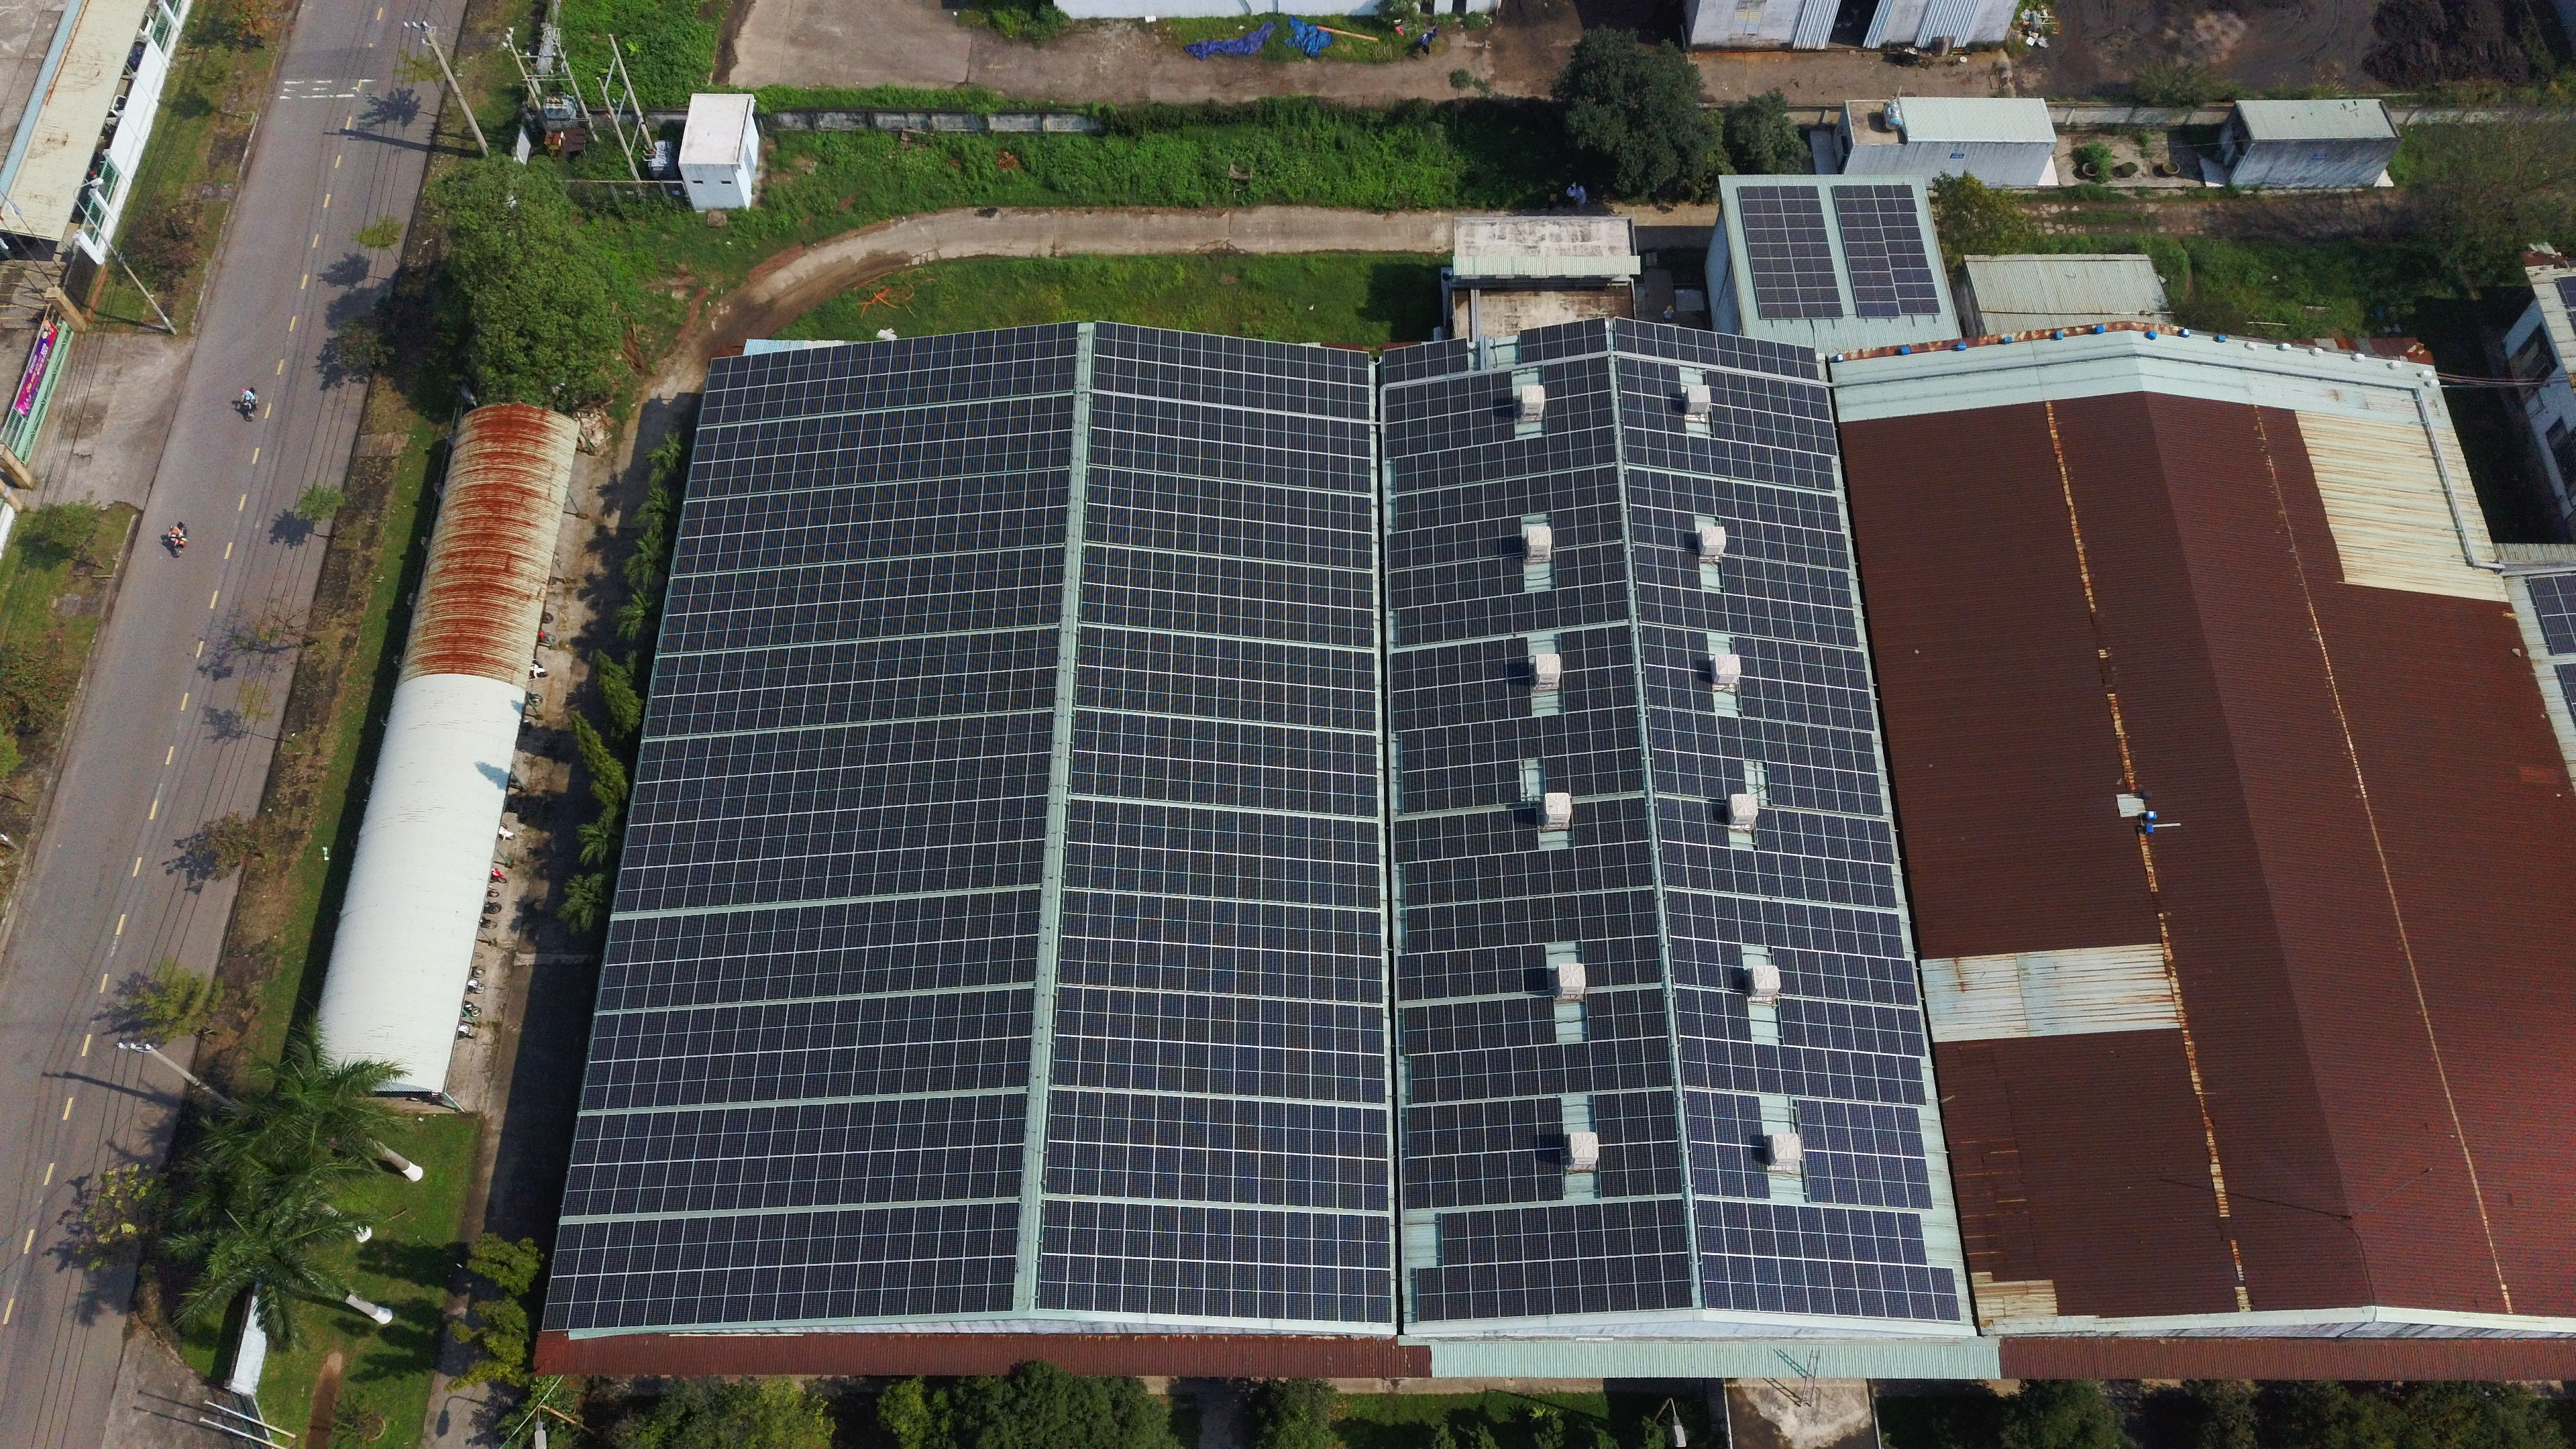solar: (543, 1275, 578, 1331), (567, 1274, 601, 1330), (593, 1272, 627, 1328), (619, 1271, 653, 1327), (644, 1270, 678, 1326), (668, 1269, 702, 1324), (695, 1268, 729, 1324), (722, 1267, 756, 1322), (749, 1266, 784, 1322), (773, 1265, 807, 1320), (800, 1263, 834, 1319), (828, 1262, 862, 1318), (853, 1262, 887, 1318), (879, 1259, 913, 1315), (551, 1223, 586, 1277), (576, 1222, 610, 1276), (601, 1222, 636, 1275), (625, 1220, 660, 1274), (651, 1219, 686, 1273), (676, 1217, 710, 1271), (702, 1216, 737, 1269), (728, 1216, 763, 1269), (751, 1212, 786, 1266), (780, 1211, 815, 1265), (1694, 1199, 1727, 1255), (1721, 1201, 1754, 1256), (1746, 1203, 1779, 1258), (1771, 1203, 1804, 1259), (1796, 1206, 1829, 1262), (1820, 1205, 1853, 1261), (1846, 1206, 1879, 1262), (1871, 1210, 1904, 1265), (1896, 1211, 1929, 1267), (1699, 1254, 1732, 1309), (1727, 1255, 1760, 1311), (1752, 1256, 1784, 1312), (1777, 1257, 1810, 1313), (1804, 1259, 1837, 1315), (1827, 1261, 1860, 1317), (1853, 1262, 1886, 1318), (1877, 1263, 1910, 1319), (1904, 1265, 1937, 1321), (1927, 1265, 1960, 1321), (1633, 1254, 1665, 1310), (1661, 1252, 1693, 1308), (924, 1040, 958, 1092), (951, 1038, 985, 1091), (1479, 1152, 1511, 1207), (1507, 1149, 1539, 1204), (1533, 1147, 1565, 1202), (1596, 1144, 1628, 1199), (1623, 1142, 1656, 1197), (1650, 1140, 1682, 1195), (1853, 1152, 1885, 1207), (1878, 1155, 1910, 1210), (1902, 1156, 1935, 1211), (561, 1164, 596, 1216), (586, 1163, 620, 1215), (610, 1163, 645, 1214), (635, 1162, 669, 1214), (659, 1160, 694, 1212), (684, 1159, 718, 1210), (710, 1157, 745, 1208), (737, 1157, 771, 1208), (761, 1155, 796, 1207), (786, 1155, 820, 1206), (814, 1154, 848, 1205), (839, 1152, 873, 1204), (865, 1151, 899, 1203), (581, 1061, 616, 1111), (604, 1059, 639, 1109), (627, 1058, 662, 1108), (653, 1057, 688, 1107), (677, 1055, 712, 1105), (700, 1054, 735, 1104), (724, 1053, 759, 1103), (752, 1051, 787, 1102), (775, 1050, 810, 1100), (800, 1048, 835, 1098), (826, 1047, 861, 1097), (970, 1095, 1004, 1147), (996, 1092, 1030, 1144), (808, 1211, 840, 1265), (830, 1210, 863, 1264), (857, 1207, 889, 1262), (883, 1207, 915, 1261), (910, 1205, 943, 1260), (938, 1204, 970, 1258), (965, 1202, 997, 1256), (988, 1202, 1020, 1256), (1146, 1260, 1179, 1314), (906, 1259, 938, 1314), (933, 1258, 965, 1313), (958, 1257, 989, 1312), (986, 1256, 1018, 1311), (890, 1148, 922, 1201), (914, 1148, 947, 1201), (941, 1147, 974, 1199), (966, 1145, 999, 1197), (1690, 1142, 1721, 1197), (1716, 1144, 1747, 1199), (1741, 1145, 1772, 1201), (1803, 1150, 1834, 1205), (1829, 1150, 1860, 1206), (1002, 1035, 1034, 1089), (571, 1115, 604, 1165), (595, 1114, 629, 1165), (620, 1113, 653, 1163), (643, 1112, 677, 1162), (669, 1110, 703, 1160), (694, 1109, 727, 1159), (718, 1108, 752, 1158), (743, 1107, 777, 1157), (767, 1106, 801, 1157), (793, 1104, 826, 1155), (818, 1104, 852, 1154), (843, 1102, 877, 1152), (870, 1099, 904, 1150), (895, 1099, 928, 1150), (918, 1097, 952, 1148), (945, 1097, 979, 1147), (1796, 1099, 1829, 1151), (1821, 1101, 1854, 1153), (1845, 1103, 1877, 1155), (1870, 1104, 1902, 1156), (1894, 1106, 1927, 1158), (1440, 1211, 1471, 1265), (1467, 1211, 1498, 1265), (1493, 1209, 1523, 1263), (1521, 1207, 1552, 1261), (1548, 1205, 1579, 1259), (1574, 1204, 1605, 1258), (1602, 1202, 1633, 1256), (1629, 1199, 1660, 1254), (1656, 1199, 1687, 1253), (1415, 1266, 1446, 1320), (1443, 1266, 1474, 1320), (1468, 1263, 1499, 1318), (1497, 1262, 1527, 1316), (1523, 1260, 1554, 1314), (1552, 1258, 1582, 1313), (1579, 1256, 1610, 1311), (1607, 1256, 1638, 1311), (588, 1012, 622, 1062), (611, 1012, 645, 1062), (635, 1010, 668, 1059), (659, 1008, 693, 1058), (685, 1008, 718, 1057), (710, 1006, 743, 1056), (733, 1004, 766, 1053), (757, 1004, 790, 1053), (782, 1001, 816, 1051), (806, 1000, 840, 1049), (833, 999, 866, 1049), (856, 998, 890, 1047), (878, 996, 912, 1046), (905, 994, 938, 1043), (930, 993, 963, 1042), (955, 991, 988, 1041), (980, 989, 1014, 1038), (1647, 1089, 1678, 1142), (977, 1038, 1010, 1089), (1642, 1036, 1673, 1088), (1048, 1088, 1077, 1143), (1075, 1088, 1104, 1143), (1100, 1090, 1130, 1145), (1127, 1091, 1157, 1146), (1153, 1093, 1183, 1148), (1179, 1095, 1209, 1150), (1205, 1097, 1235, 1152), (1233, 1096, 1263, 1151), (1257, 1100, 1287, 1155), (1284, 1101, 1313, 1156), (1311, 1104, 1340, 1159), (1334, 1104, 1364, 1159), (1360, 1106, 1389, 1161), (1046, 1140, 1076, 1195), (1073, 1142, 1102, 1197), (1097, 1142, 1127, 1197), (1124, 1144, 1154, 1199), (1152, 1145, 1181, 1200), (1178, 1147, 1207, 1202), (1204, 1149, 1234, 1204), (1232, 1150, 1261, 1205), (1256, 1151, 1286, 1206), (1283, 1153, 1313, 1208), (1308, 1155, 1338, 1210), (1336, 1157, 1365, 1212), (1360, 1157, 1389, 1212), (1042, 1200, 1071, 1255), (1070, 1200, 1099, 1255), (1097, 1201, 1126, 1256), (1124, 1204, 1153, 1259), (1150, 1203, 1179, 1258), (1177, 1206, 1207, 1261), (1204, 1206, 1234, 1261), (1231, 1209, 1260, 1264), (1256, 1210, 1285, 1265), (1284, 1212, 1313, 1267), (1311, 1212, 1340, 1267), (1336, 1212, 1366, 1267), (1361, 1214, 1391, 1269), (1038, 1254, 1068, 1309), (1065, 1257, 1095, 1312), (1093, 1256, 1123, 1311), (1120, 1256, 1150, 1311), (1175, 1260, 1205, 1316), (1202, 1262, 1232, 1317), (1230, 1262, 1259, 1317), (1256, 1263, 1286, 1318), (1285, 1265, 1314, 1320), (1311, 1267, 1341, 1322), (1336, 1267, 1366, 1322), (1362, 1268, 1392, 1323), (851, 1046, 883, 1096), (875, 1044, 908, 1094), (900, 1044, 932, 1094), (1627, 887, 1659, 937), (1693, 939, 1725, 989), (1078, 1034, 1108, 1087), (1103, 1037, 1132, 1090), (1130, 1038, 1160, 1091), (1155, 1040, 1185, 1093), (1180, 1041, 1210, 1094), (1208, 1043, 1238, 1096), (1232, 1044, 1261, 1097), (1257, 1045, 1287, 1098), (1282, 1047, 1311, 1100), (1307, 1047, 1337, 1100), (1334, 1049, 1364, 1102), (1699, 989, 1729, 1040), (1722, 992, 1752, 1043), (1777, 996, 1807, 1047), (1802, 1000, 1832, 1051), (1825, 1000, 1856, 1051), (1848, 1003, 1878, 1054), (1873, 1006, 1903, 1057), (1895, 1007, 1925, 1058), (1680, 1037, 1710, 1088), (1705, 1039, 1735, 1090), (1729, 1040, 1759, 1091), (1754, 1042, 1784, 1093), (1778, 1044, 1808, 1095), (1802, 1047, 1832, 1098), (1825, 1050, 1856, 1101), (1850, 1051, 1880, 1102), (1874, 1053, 1904, 1104), (1896, 1055, 1927, 1106), (1684, 1091, 1714, 1142), (1709, 1093, 1739, 1144), (1735, 1094, 1765, 1145), (996, 1145, 1025, 1197), (1053, 1034, 1081, 1087), (1456, 1153, 1485, 1207), (1006, 988, 1037, 1037), (1402, 1005, 1432, 1056), (1426, 1003, 1456, 1054), (1452, 1001, 1482, 1052), (1477, 998, 1506, 1049), (1527, 995, 1557, 1046), (1500, 996, 1529, 1046), (1585, 991, 1615, 1042), (1611, 989, 1641, 1040), (1638, 987, 1667, 1038), (1408, 1053, 1438, 1104), (1434, 1051, 1464, 1102), (1460, 1051, 1489, 1102), (1484, 1048, 1513, 1099), (1511, 1046, 1541, 1097), (1538, 1045, 1568, 1096), (1563, 1041, 1593, 1092), (1589, 1040, 1618, 1091), (1617, 1038, 1647, 1089), (1405, 1106, 1435, 1157), (1432, 1104, 1462, 1155), (1457, 1102, 1487, 1153), (1483, 1099, 1513, 1150), (1509, 1099, 1539, 1150), (1536, 1097, 1565, 1148), (1593, 1093, 1623, 1144), (1620, 1091, 1650, 1142), (1402, 1157, 1432, 1208), (1429, 1155, 1458, 1206), (1665, 889, 1695, 938), (1688, 892, 1719, 941), (1713, 895, 1743, 945), (1736, 896, 1766, 946), (1759, 899, 1789, 949), (1783, 901, 1813, 951), (1807, 904, 1837, 954), (1831, 907, 1862, 957), (1670, 936, 1700, 985), (1717, 941, 1747, 991), (1772, 947, 1802, 996), (1794, 949, 1825, 999), (1819, 952, 1849, 1002), (1842, 954, 1872, 1004), (1866, 956, 1896, 1006), (1890, 958, 1920, 1008), (1675, 987, 1705, 1037), (597, 963, 628, 1012), (621, 963, 652, 1011), (645, 961, 676, 1010), (669, 960, 700, 1008), (693, 957, 724, 1005), (718, 957, 749, 1005), (741, 954, 772, 1002), (764, 952, 795, 1000), (788, 951, 818, 999), (812, 949, 843, 998), (837, 948, 867, 996), (861, 945, 892, 994), (886, 943, 917, 991), (911, 942, 942, 990), (935, 940, 966, 988), (962, 938, 993, 986), (985, 936, 1016, 985), (1009, 934, 1040, 983), (1577, 891, 1608, 939), (1601, 890, 1632, 938), (1157, 993, 1186, 1043), (1183, 993, 1212, 1043), (1207, 996, 1237, 1046), (1232, 996, 1262, 1046), (1258, 997, 1287, 1047), (1282, 1000, 1311, 1051), (1307, 1002, 1337, 1052), (1333, 1002, 1362, 1053), (698, 913, 730, 960), (723, 910, 754, 957), (747, 909, 777, 956), (771, 908, 802, 955), (794, 904, 825, 951), (819, 904, 850, 951), (843, 902, 874, 949), (867, 900, 898, 947), (891, 898, 922, 945), (916, 897, 947, 944), (940, 895, 971, 942), (965, 892, 996, 939), (989, 891, 1020, 938), (1580, 939, 1610, 988), (1608, 936, 1638, 985), (1633, 936, 1663, 985), (1548, 847, 1580, 893), (1572, 846, 1604, 892), (1600, 845, 1631, 890), (1625, 843, 1657, 889), (1853, 910, 1883, 958), (1876, 912, 1906, 960), (1656, 796, 1686, 845), (1678, 798, 1708, 847), (1703, 800, 1732, 849), (1754, 806, 1783, 854), (1776, 808, 1805, 857), (1800, 812, 1829, 860), (1822, 813, 1851, 861), (1660, 841, 1690, 889), (1684, 843, 1713, 891), (1707, 846, 1737, 894), (1731, 848, 1761, 896), (1755, 851, 1784, 899), (1777, 853, 1807, 902), (1801, 855, 1830, 904), (1823, 857, 1852, 905), (1847, 859, 1876, 908), (1869, 862, 1898, 910), (1357, 1004, 1385, 1055), (1843, 817, 1873, 863), (1866, 820, 1895, 866), (623, 824, 653, 869), (645, 822, 675, 867), (666, 822, 696, 867), (692, 820, 722, 865), (712, 818, 743, 863), (737, 816, 767, 861), (759, 814, 789, 859), (783, 813, 813, 858), (806, 811, 837, 856), (830, 810, 860, 855), (853, 808, 883, 853), (878, 805, 908, 850), (902, 804, 932, 849), (924, 802, 954, 847), (950, 802, 980, 847), (972, 798, 1002, 843), (997, 798, 1027, 843), (1021, 796, 1051, 841), (615, 867, 645, 912), (637, 866, 667, 911), (661, 865, 691, 910), (684, 863, 714, 908), (706, 861, 737, 906), (729, 860, 759, 905), (753, 857, 783, 902), (776, 857, 806, 902), (800, 855, 830, 900), (825, 853, 855, 898), (849, 852, 879, 897), (870, 849, 900, 894), (897, 848, 927, 893), (919, 847, 949, 892), (943, 845, 973, 890), (967, 843, 998, 888), (992, 841, 1022, 885), (606, 920, 636, 965), (629, 918, 659, 963), (653, 916, 683, 961), (676, 915, 706, 960), (1360, 1053, 1387, 1105), (1061, 889, 1089, 938), (1087, 890, 1114, 939), (1112, 892, 1140, 941), (1137, 894, 1165, 943), (1162, 895, 1189, 944), (1185, 896, 1212, 945), (1211, 900, 1238, 949), (1235, 900, 1263, 949), (1260, 902, 1288, 951), (1284, 902, 1311, 951), (1307, 904, 1334, 953), (1334, 907, 1361, 956), (1355, 909, 1383, 958), (1059, 935, 1086, 984), (1083, 937, 1111, 986), (1110, 938, 1138, 987), (1136, 942, 1163, 991), (1160, 941, 1187, 990), (1183, 944, 1210, 993), (1211, 946, 1238, 995), (1234, 948, 1261, 997), (1258, 948, 1286, 997), (1285, 951, 1312, 1000), (1310, 952, 1338, 1001), (1333, 953, 1360, 1002), (1358, 955, 1386, 1004), (1056, 987, 1083, 1036), (1080, 988, 1108, 1037), (1107, 989, 1134, 1038), (1132, 991, 1160, 1040), (789, 770, 819, 814), (811, 767, 841, 811), (836, 766, 866, 810), (859, 765, 890, 809), (882, 763, 912, 807), (905, 761, 935, 805), (930, 758, 960, 802), (955, 758, 985, 802), (1429, 904, 1456, 952), (1452, 903, 1480, 951), (1479, 900, 1506, 948), (1503, 897, 1530, 945), (1528, 895, 1556, 943), (1552, 892, 1580, 941), (1510, 808, 1540, 853), (1572, 803, 1601, 848), (1596, 800, 1625, 845), (1621, 797, 1650, 842), (651, 780, 682, 823), (675, 779, 706, 822), (697, 776, 728, 819), (719, 775, 750, 818), (743, 773, 773, 816), (765, 773, 796, 816), (1015, 889, 1043, 936), (1524, 850, 1552, 897), (1500, 853, 1529, 898), (1018, 840, 1046, 885), (977, 756, 1006, 800), (1001, 754, 1030, 798), (1094, 710, 1123, 755), (1118, 712, 1147, 756), (1143, 714, 1172, 759), (1166, 715, 1195, 759), (1189, 716, 1218, 761), (1214, 720, 1243, 764), (1236, 723, 1265, 767), (1260, 726, 1289, 770), (1282, 728, 1311, 772), (1305, 728, 1334, 772), (1328, 730, 1357, 774), (651, 655, 682, 698), (672, 654, 702, 696), (695, 652, 725, 694), (717, 650, 747, 692), (741, 649, 771, 691), (761, 647, 792, 689), (782, 645, 812, 687), (806, 643, 837, 686), (830, 641, 860, 684), (853, 640, 883, 682), (873, 639, 904, 681), (896, 637, 926, 680), (918, 636, 948, 678), (942, 633, 972, 676), (965, 632, 996, 674), (643, 696, 674, 738), (668, 695, 698, 737), (690, 693, 720, 735), (712, 691, 742, 733), (733, 690, 763, 733), (755, 688, 786, 730), (778, 686, 808, 728), (801, 684, 831, 726), (824, 683, 854, 725), (847, 682, 877, 724), (869, 678, 899, 720), (893, 678, 923, 720), (916, 676, 946, 718), (939, 674, 969, 716), (637, 740, 667, 782), (658, 739, 688, 781), (682, 738, 712, 780), (704, 736, 735, 778), (726, 733, 756, 775), (750, 731, 780, 773), (771, 731, 801, 773), (795, 730, 825, 772), (818, 727, 849, 769), (841, 725, 871, 767), (864, 723, 894, 765), (886, 722, 916, 764), (910, 720, 940, 762), (934, 718, 964, 761), (957, 716, 987, 758), (979, 714, 1010, 757), (1003, 713, 1033, 755), (1024, 711, 1055, 753), (629, 783, 659, 825), (1405, 907, 1432, 953), (1397, 955, 1424, 1001), (1421, 952, 1449, 998), (1446, 950, 1473, 996), (1470, 949, 1497, 995), (1497, 947, 1524, 993), (1522, 944, 1550, 990), (1024, 753, 1053, 797), (680, 612, 710, 654), (703, 611, 733, 653), (722, 609, 753, 651), (747, 607, 777, 649), (767, 605, 798, 647), (790, 603, 820, 645), (812, 602, 843, 643), (835, 600, 865, 641), (858, 598, 888, 639), (879, 596, 910, 638), (963, 672, 991, 716), (984, 671, 1012, 714), (1010, 668, 1038, 712), (1031, 666, 1059, 710), (1543, 755, 1571, 799), (1567, 752, 1595, 796), (1591, 750, 1619, 794), (1617, 749, 1645, 792), (988, 631, 1016, 674), (1010, 629, 1038, 672), (1032, 627, 1061, 669), (1069, 750, 1096, 795), (1093, 752, 1120, 797), (1117, 754, 1144, 799), (1142, 756, 1169, 801), (1167, 759, 1194, 804), (1190, 759, 1217, 804), (1214, 761, 1240, 806), (1236, 763, 1263, 808), (1261, 766, 1288, 811), (1283, 768, 1310, 813), (1308, 769, 1335, 814), (1330, 771, 1356, 816), (1069, 800, 1095, 845), (1092, 800, 1119, 845), (1116, 803, 1142, 848), (1140, 804, 1167, 849), (1163, 806, 1190, 851), (1189, 808, 1216, 853), (1212, 810, 1238, 855), (1236, 812, 1263, 857), (1260, 812, 1287, 857), (1283, 814, 1310, 859), (1307, 817, 1334, 862), (1332, 818, 1358, 863), (1065, 843, 1091, 888), (1089, 844, 1116, 889), (1113, 847, 1140, 892), (1138, 849, 1165, 894), (1163, 849, 1190, 894), (1187, 851, 1214, 896), (1212, 853, 1238, 898), (1236, 855, 1263, 900), (1261, 857, 1288, 902), (1283, 859, 1310, 904), (1307, 861, 1334, 906), (1331, 861, 1358, 906), (1354, 865, 1381, 910), (1399, 729, 1427, 772), (1422, 727, 1450, 771), (1446, 723, 1474, 767), (1471, 720, 1499, 764), (1495, 718, 1523, 762), (1517, 717, 1544, 761), (1540, 712, 1568, 755), (1565, 710, 1593, 754), (1590, 708, 1617, 752), (1615, 706, 1642, 749), (1401, 769, 1429, 813), (1393, 818, 1421, 862), (1416, 816, 1444, 860), (1441, 814, 1468, 858), (1465, 812, 1493, 856), (1488, 811, 1515, 855), (1404, 863, 1432, 906), (1429, 860, 1456, 904), (1452, 858, 1479, 902), (1475, 857, 1503, 900), (1647, 707, 1674, 751), (1670, 710, 1698, 753), (1693, 712, 1720, 755), (1716, 715, 1743, 759), (1739, 718, 1767, 761), (1761, 720, 1788, 764), (1783, 722, 1811, 765), (1806, 725, 1833, 769), (1828, 728, 1856, 771), (1851, 730, 1878, 773), (1652, 750, 1680, 794), (1674, 753, 1701, 796), (1699, 755, 1726, 799), (1721, 758, 1749, 802), (1767, 762, 1794, 806), (1790, 765, 1818, 808), (1811, 767, 1839, 810), (1834, 769, 1862, 813), (1857, 772, 1884, 816), (1122, 630, 1151, 671), (1147, 631, 1176, 672), (969, 589, 997, 631), (992, 588, 1020, 629), (1015, 586, 1043, 628), (1075, 665, 1102, 709), (1098, 666, 1125, 710), (1122, 667, 1148, 711), (1145, 669, 1172, 712), (1169, 672, 1195, 716), (1191, 674, 1218, 717), (1214, 677, 1241, 720), (1237, 678, 1264, 721), (1263, 681, 1289, 724), (1283, 682, 1310, 726), (1305, 684, 1332, 728), (1328, 686, 1355, 730), (1351, 689, 1378, 733), (1074, 708, 1101, 752), (1609, 665, 1637, 708), (903, 594, 931, 635), (925, 593, 953, 634), (947, 591, 975, 632), (1355, 820, 1381, 865), (1353, 733, 1379, 776), (862, 559, 890, 600), (885, 557, 912, 598), (907, 556, 934, 597), (928, 554, 955, 595), (949, 551, 977, 592), (973, 549, 1000, 590), (996, 548, 1023, 589), (1016, 546, 1044, 587), (1170, 634, 1197, 675), (1193, 637, 1220, 678), (1217, 637, 1244, 678), (1240, 641, 1268, 682), (1260, 644, 1288, 685), (1285, 644, 1312, 685), (1307, 647, 1334, 688), (1328, 649, 1356, 690), (1350, 651, 1377, 692), (1831, 607, 1859, 648), (659, 614, 688, 653), (1426, 768, 1452, 812), (1450, 764, 1475, 808), (1474, 761, 1499, 805), (1495, 760, 1521, 804), (1573, 467, 1599, 509), (1595, 462, 1621, 504), (1088, 426, 1114, 468), (1110, 428, 1136, 470), (1133, 431, 1159, 473), (1086, 467, 1112, 508), (1354, 774, 1379, 818), (1419, 604, 1446, 644), (1441, 602, 1468, 642), (1465, 599, 1492, 639), (1487, 594, 1514, 635), (1510, 593, 1537, 633), (1534, 590, 1561, 631), (1557, 587, 1584, 627), (1581, 584, 1608, 625), (1603, 581, 1630, 621), (1551, 508, 1576, 550), (1573, 504, 1599, 546), (1597, 501, 1623, 543), (1389, 570, 1414, 612), (1397, 606, 1423, 648), (1390, 650, 1415, 692), (1412, 647, 1438, 689), (1434, 645, 1460, 687), (1458, 641, 1484, 683), (1482, 637, 1507, 680), (1503, 635, 1529, 678), (1561, 630, 1587, 672), (1584, 627, 1609, 669), (1608, 623, 1633, 665), (1391, 688, 1416, 731), (1415, 688, 1440, 730), (1438, 683, 1463, 725), (1460, 681, 1486, 723), (1485, 679, 1510, 721), (1508, 676, 1534, 718), (1564, 669, 1590, 712), (1587, 667, 1612, 710), (1155, 434, 1181, 475), (1630, 504, 1656, 546), (1652, 506, 1677, 548), (1673, 510, 1699, 551), (1720, 515, 1746, 557), (1741, 519, 1766, 560), (1762, 522, 1788, 563), (1783, 525, 1809, 566), (1803, 528, 1829, 570), (1824, 530, 1849, 572), (1633, 543, 1659, 584), (1657, 546, 1682, 588), (1677, 550, 1703, 592), (1721, 555, 1747, 596), (1743, 557, 1768, 599), (1764, 559, 1789, 601), (1785, 563, 1811, 604), (1806, 565, 1831, 606), (1827, 568, 1853, 609), (1638, 581, 1663, 623), (1659, 585, 1684, 627), (1682, 588, 1707, 629), (1703, 590, 1728, 632), (1725, 593, 1750, 635), (1748, 596, 1773, 638), (1768, 600, 1794, 642), (1791, 600, 1817, 642), (1812, 604, 1837, 646), (1642, 625, 1667, 666), (1664, 627, 1689, 669), (1685, 630, 1711, 672), (1735, 637, 1760, 679), (1756, 639, 1781, 680), (1778, 641, 1803, 682), (1800, 644, 1825, 686), (1821, 646, 1847, 688), (1843, 649, 1869, 690), (1644, 665, 1669, 706), (1666, 668, 1692, 710), (1689, 671, 1715, 712), (1737, 676, 1763, 718), (1762, 679, 1787, 720), (1782, 681, 1808, 722), (1805, 685, 1831, 727), (1827, 687, 1852, 729), (1849, 688, 1874, 730), (1021, 471, 1049, 508), (673, 537, 700, 576), (696, 535, 722, 574), (716, 533, 743, 572), (738, 531, 765, 570), (758, 529, 785, 568), (778, 526, 805, 565), (801, 525, 828, 564), (823, 521, 850, 560), (845, 521, 872, 559), (866, 521, 893, 559), (890, 519, 916, 558), (909, 517, 936, 555), (933, 515, 960, 553), (957, 513, 983, 552), (977, 512, 1004, 551), (1000, 510, 1026, 549), (1021, 506, 1048, 545), (1042, 506, 1069, 545), (666, 576, 693, 614), (689, 574, 716, 613), (710, 572, 737, 611), (731, 572, 758, 610), (754, 569, 781, 608), (775, 568, 802, 606), (798, 566, 825, 605), (817, 564, 844, 603), (839, 562, 866, 601), (1411, 566, 1436, 608), (1432, 561, 1457, 603), (1456, 559, 1481, 600), (1477, 556, 1502, 598), (1501, 555, 1526, 596), (1556, 546, 1580, 588), (1579, 545, 1604, 586), (1601, 542, 1626, 584), (1177, 437, 1202, 477), (1197, 439, 1223, 479), (1220, 441, 1246, 482), (919, 441, 945, 480), (939, 439, 965, 478), (963, 437, 989, 476), (983, 435, 1010, 474), (1006, 431, 1032, 470), (1026, 431, 1052, 470), (1046, 430, 1073, 469), (1040, 545, 1065, 586), (1085, 504, 1111, 543), (1107, 506, 1132, 546), (1130, 507, 1155, 547), (1151, 511, 1177, 550), (1173, 512, 1199, 551), (1195, 516, 1221, 555), (1217, 517, 1242, 557), (1240, 520, 1266, 559), (1263, 521, 1288, 561), (1285, 524, 1310, 563), (1306, 527, 1332, 567), (1328, 528, 1353, 568), (1350, 531, 1375, 570), (1081, 544, 1107, 584), (1105, 546, 1130, 586), (1127, 549, 1152, 589), (1152, 551, 1177, 590), (1171, 553, 1197, 592), (1196, 555, 1222, 595), (1219, 558, 1244, 598), (1240, 560, 1266, 600), (1264, 563, 1289, 602), (1283, 565, 1308, 604), (1306, 565, 1332, 604), (1328, 568, 1354, 608), (1350, 571, 1375, 610), (1081, 584, 1106, 623), (1104, 584, 1130, 624), (1147, 590, 1173, 630), (1124, 586, 1149, 626), (1171, 592, 1197, 632), (1193, 593, 1219, 633), (1216, 596, 1242, 635), (1239, 598, 1265, 638), (1263, 600, 1289, 640), (1284, 604, 1309, 643), (1307, 605, 1333, 645), (1330, 607, 1355, 647), (1350, 608, 1375, 647), (1078, 627, 1104, 666), (1102, 628, 1127, 667), (1039, 584, 1063, 625), (1460, 444, 1485, 484), (1481, 441, 1505, 482), (1503, 439, 1528, 480), (1524, 436, 1549, 476), (1548, 433, 1573, 473), (1570, 429, 1595, 469), (1592, 426, 1617, 466), (1285, 449, 1310, 488), (1306, 451, 1332, 490), (1328, 453, 1353, 492), (1347, 455, 1373, 494), (1766, 378, 1791, 417), (1787, 382, 1813, 421), (1806, 384, 1831, 423), (706, 356, 733, 392), (726, 355, 753, 392), (746, 352, 773, 389), (767, 350, 794, 386), (786, 347, 813, 384), (806, 346, 833, 383), (828, 343, 855, 380), (1241, 444, 1266, 484), (1263, 447, 1288, 486), (1108, 470, 1133, 509), (1131, 470, 1156, 510), (1152, 473, 1177, 513), (1175, 475, 1200, 515), (1198, 478, 1223, 517), (1218, 480, 1242, 520), (1241, 484, 1266, 523), (1263, 486, 1287, 525), (1285, 487, 1309, 527), (1306, 490, 1331, 529), (1328, 492, 1353, 531), (1348, 493, 1373, 533), (1590, 389, 1615, 429), (1094, 319, 1118, 359), (700, 390, 727, 427), (720, 387, 746, 424), (741, 386, 767, 423), (760, 383, 786, 420), (780, 382, 806, 419), (802, 380, 828, 417), (822, 378, 849, 415), (842, 374, 868, 411), (863, 373, 889, 410), (883, 372, 910, 409), (905, 369, 931, 406), (925, 367, 951, 404), (947, 366, 973, 402), (969, 364, 995, 400), (988, 361, 1014, 398), (1010, 360, 1036, 396), (1030, 358, 1057, 395), (1051, 356, 1077, 392), (693, 426, 719, 463), (712, 426, 739, 463), (733, 422, 759, 459), (755, 420, 782, 457), (775, 419, 802, 455), (796, 417, 822, 454), (816, 415, 843, 452), (839, 414, 865, 451), (879, 411, 906, 447), (856, 411, 882, 448), (901, 408, 927, 445), (923, 407, 949, 444), (943, 405, 969, 441), (964, 402, 990, 439), (987, 400, 1014, 437), (1006, 399, 1032, 436), (1028, 397, 1055, 434), (1051, 396, 1077, 433), (688, 462, 714, 499), (708, 461, 734, 498), (728, 458, 754, 495), (748, 457, 774, 494), (770, 454, 796, 491), (790, 453, 816, 490), (812, 450, 838, 487), (833, 449, 859, 486), (855, 447, 881, 484), (875, 444, 902, 481), (895, 441, 921, 478), (681, 501, 707, 538), (700, 499, 727, 536), (722, 498, 748, 535), (743, 495, 769, 532), (765, 493, 791, 530), (786, 491, 812, 528), (808, 490, 834, 527), (828, 488, 854, 525), (849, 486, 875, 523), (872, 483, 898, 520), (892, 482, 918, 519), (914, 481, 940, 518), (936, 478, 963, 515), (959, 476, 985, 513), (980, 475, 1006, 512), (1001, 475, 1027, 512), (847, 341, 873, 379), (868, 339, 894, 376), (889, 337, 914, 374), (909, 334, 934, 372), (930, 333, 955, 370), (950, 332, 975, 370), (969, 328, 995, 366), (991, 326, 1016, 364), (1013, 323, 1038, 361), (1032, 322, 1058, 360), (1054, 321, 1079, 358), (1813, 419, 1839, 456), (1709, 404, 1735, 440), (1730, 407, 1756, 443), (1751, 411, 1777, 447), (1773, 413, 1799, 449), (1792, 417, 1818, 453), (1328, 419, 1352, 458), (1348, 420, 1373, 459), (1468, 372, 1493, 411), (1490, 370, 1514, 409), (1543, 362, 1567, 400), (1564, 358, 1589, 397), (1587, 355, 1611, 394), (1462, 482, 1485, 523), (1477, 519, 1499, 559), (1091, 355, 1116, 392), (1114, 358, 1139, 395), (1136, 360, 1161, 397), (1157, 363, 1182, 400), (1179, 366, 1203, 402), (1201, 368, 1226, 405), (1220, 372, 1245, 409), (1241, 373, 1266, 410), (1263, 375, 1288, 412), (1285, 378, 1310, 415), (1306, 379, 1331, 416), (1326, 381, 1351, 418), (1091, 392, 1116, 429), (1114, 394, 1138, 431), (1133, 397, 1158, 434), (1156, 399, 1181, 436), (1177, 402, 1202, 439), (1199, 404, 1224, 441), (1220, 407, 1245, 444), (1242, 408, 1267, 445), (1263, 412, 1287, 449), (1285, 414, 1310, 451), (1305, 416, 1330, 453), (1046, 470, 1071, 507), (1540, 323, 1564, 360), (1561, 319, 1585, 357), (1584, 317, 1608, 355), (1614, 316, 1638, 354), (1633, 320, 1658, 358), (1655, 322, 1679, 360), (1676, 325, 1700, 363), (1695, 329, 1719, 366), (1618, 357, 1642, 394), (1640, 359, 1664, 396), (1659, 362, 1683, 399), (1706, 368, 1730, 406), (1727, 371, 1752, 409), (1747, 374, 1771, 412), (1620, 392, 1644, 429), (1643, 394, 1667, 431), (1664, 398, 1688, 435), (1624, 428, 1648, 466), (1646, 430, 1670, 468), (1666, 433, 1690, 471), (1687, 436, 1711, 474), (1709, 439, 1733, 476), (1729, 441, 1754, 479), (1750, 445, 1774, 482), (1770, 448, 1794, 486), (1792, 451, 1816, 489), (1812, 453, 1836, 490), (1627, 469, 1652, 506), (1649, 472, 1673, 509), (1672, 474, 1696, 511), (1692, 476, 1716, 514), (1713, 479, 1737, 517), (1735, 484, 1759, 521), (1754, 486, 1778, 523), (1776, 488, 1800, 526), (1797, 492, 1821, 529), (1817, 494, 1841, 532), (1449, 410, 1472, 449), (1471, 407, 1494, 446), (1493, 405, 1515, 445), (1547, 396, 1570, 436), (1568, 393, 1591, 433), (1395, 454, 1417, 494), (1416, 451, 1439, 491), (1439, 449, 1462, 488), (1395, 492, 1418, 532), (1418, 490, 1441, 529), (1440, 484, 1462, 524), (1484, 480, 1507, 520), (1505, 477, 1528, 517), (1527, 475, 1550, 515), (1551, 472, 1574, 511), (1389, 529, 1411, 569), (1411, 527, 1434, 567), (1432, 525, 1455, 564), (1454, 521, 1477, 561), (1499, 517, 1521, 556), (1116, 323, 1140, 360), (1136, 325, 1161, 362), (1159, 327, 1183, 364), (1178, 330, 1202, 367), (1201, 332, 1225, 369), (1222, 335, 1246, 372), (1242, 339, 1266, 376), (1264, 340, 1288, 377), (1285, 342, 1309, 379), (1306, 345, 1330, 382), (1326, 346, 1350, 383), (1345, 350, 1369, 387), (1790, 254, 1835, 274), (1347, 384, 1371, 421), (1792, 272, 1838, 290), (1796, 286, 1841, 305), (1799, 302, 1845, 321), (1716, 333, 1739, 369), (1735, 335, 1759, 372), (1756, 338, 1780, 374), (1776, 341, 1800, 377), (1795, 345, 1819, 381), (1738, 183, 1783, 202), (1739, 196, 1784, 215), (1741, 211, 1786, 230), (1743, 225, 1788, 244), (1746, 241, 1790, 260), (1750, 255, 1794, 274), (1752, 270, 1796, 289), (1754, 286, 1799, 305), (1758, 301, 1803, 320), (1892, 284, 1939, 302), (1898, 297, 1944, 315), (1384, 386, 1406, 424), (1405, 382, 1427, 420), (1427, 379, 1449, 417), (1447, 377, 1469, 415), (1385, 420, 1407, 458), (1406, 417, 1428, 455), (1429, 414, 1451, 451), (1384, 347, 1406, 384), (1405, 343, 1427, 380), (1425, 341, 1447, 378), (1446, 338, 1468, 375), (1519, 327, 1542, 364), (1778, 183, 1821, 202), (1778, 198, 1821, 217), (1782, 211, 1825, 230), (1784, 225, 1827, 244), (1787, 241, 1830, 260), (1831, 182, 1874, 201), (1835, 198, 1878, 217), (1838, 211, 1881, 229), (1841, 224, 1884, 243), (1844, 240, 1887, 259), (1848, 254, 1891, 272), (1851, 270, 1894, 288), (1853, 283, 1896, 302), (1856, 299, 1899, 318), (1874, 183, 1917, 199), (1875, 197, 1918, 213), (1877, 211, 1920, 227), (1881, 225, 1924, 241), (1883, 237, 1926, 254), (1886, 252, 1929, 268), (1890, 267, 1933, 283)
